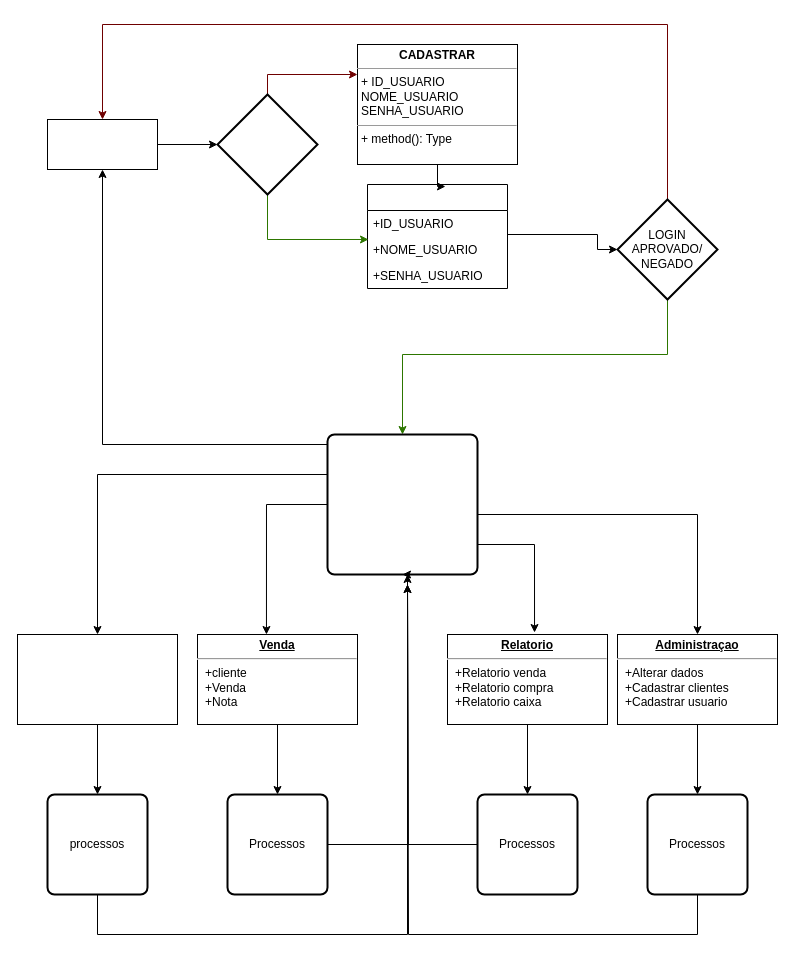
The diagram is 795 pixels wide and 960 high, and some of its shapes have lost their labels. Here are the shapes that lost their labels. From the top down, the box of each, then its label:
(46, 118, 158, 170): LOGIN
(216, 93, 318, 195): JA POSSUI CADASTRO
(366, 184, 508, 288): CADASTRO
(326, 433, 478, 575): DESCONECT ESTOQUE VENDA ADMINISTRATIVO RELATORIOS
(16, 634, 178, 724): Estoque +Produtos +Entrada e Saida +Relatorio
